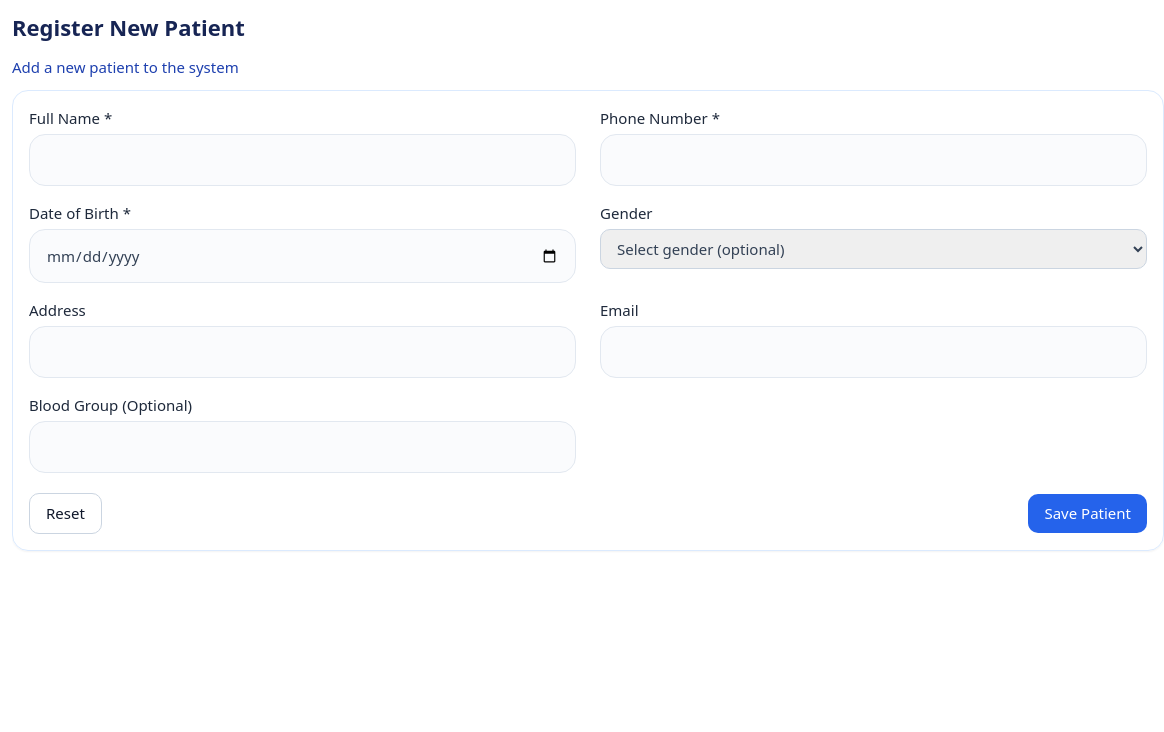
Scenario: registers with optional blood group
The width and height of the screenshot is (1164, 732).
Type "Example Patient" into the field labelled "Full Name*".
click(302, 160); type("Example Patient")  # box 29,134 -> 576,186
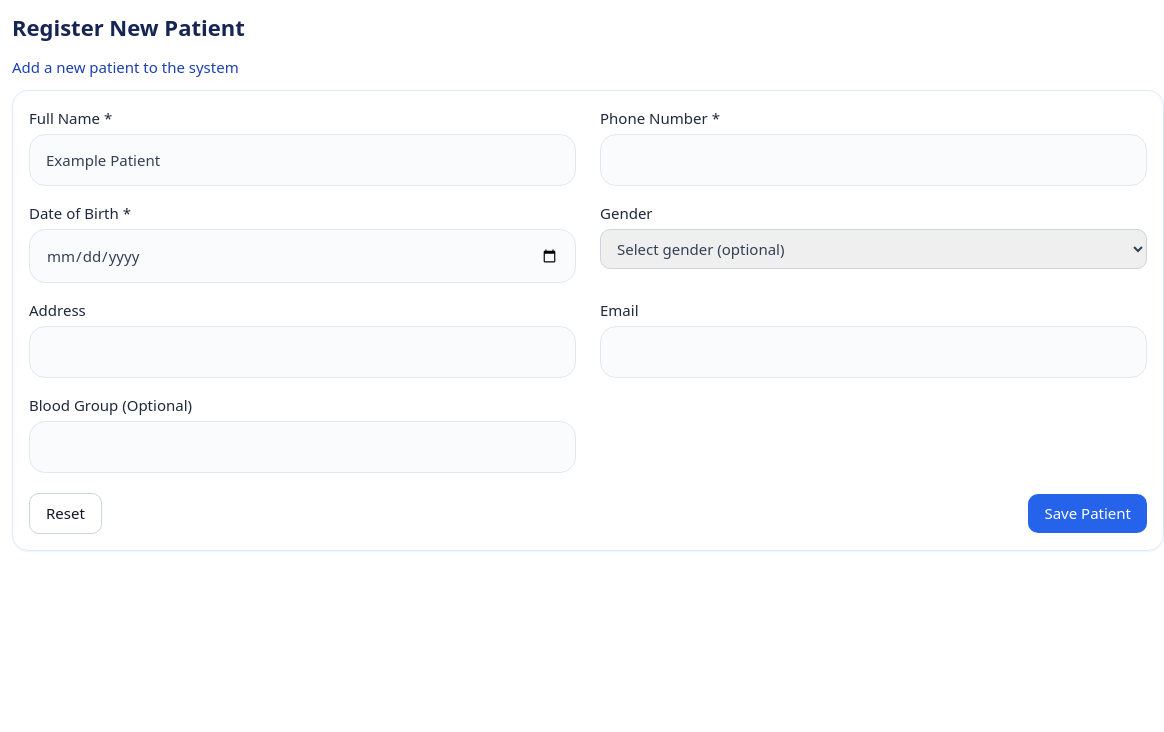
Type "raw-phone" into the field labelled "Phone Number*".
click(874, 160); type("raw-phone")  # box 600,134 -> 1147,186
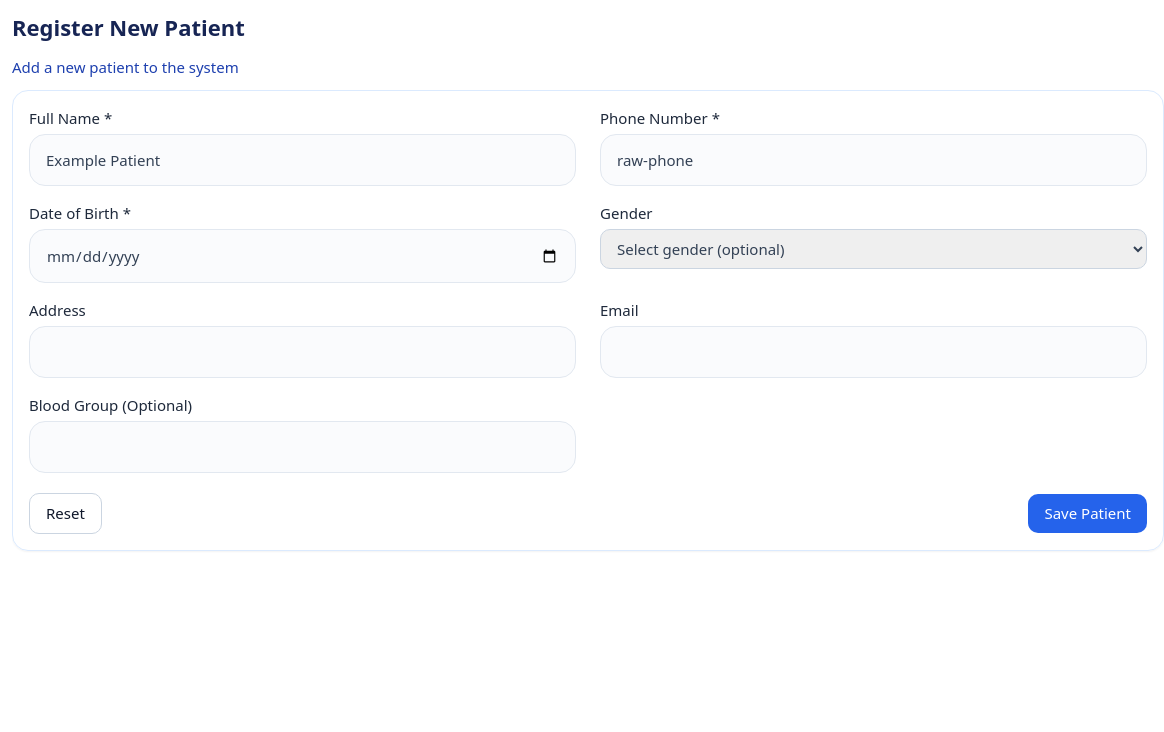
Type "1990-01-15" into the date field labelled "Date of Birth*".
click(302, 256); type("1990-01-15")  # box 29,229 -> 576,283
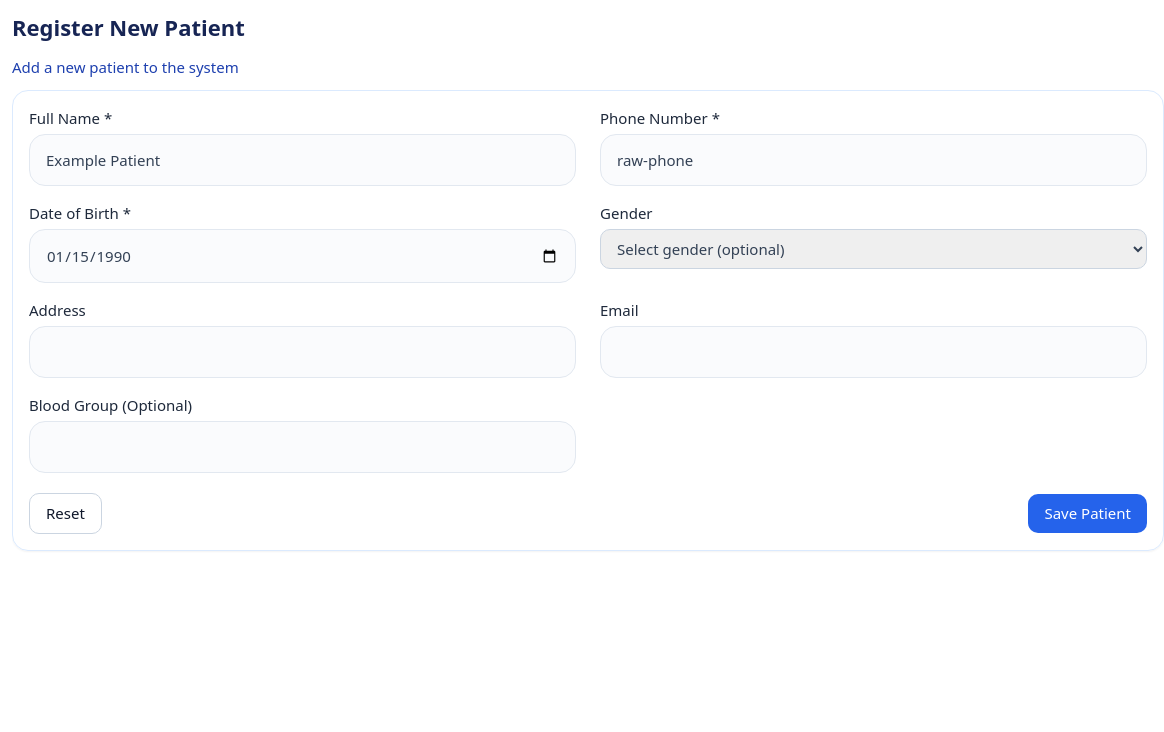
Click the button "Save Patient".
click(1088, 514)  # box 1028,494 -> 1147,533
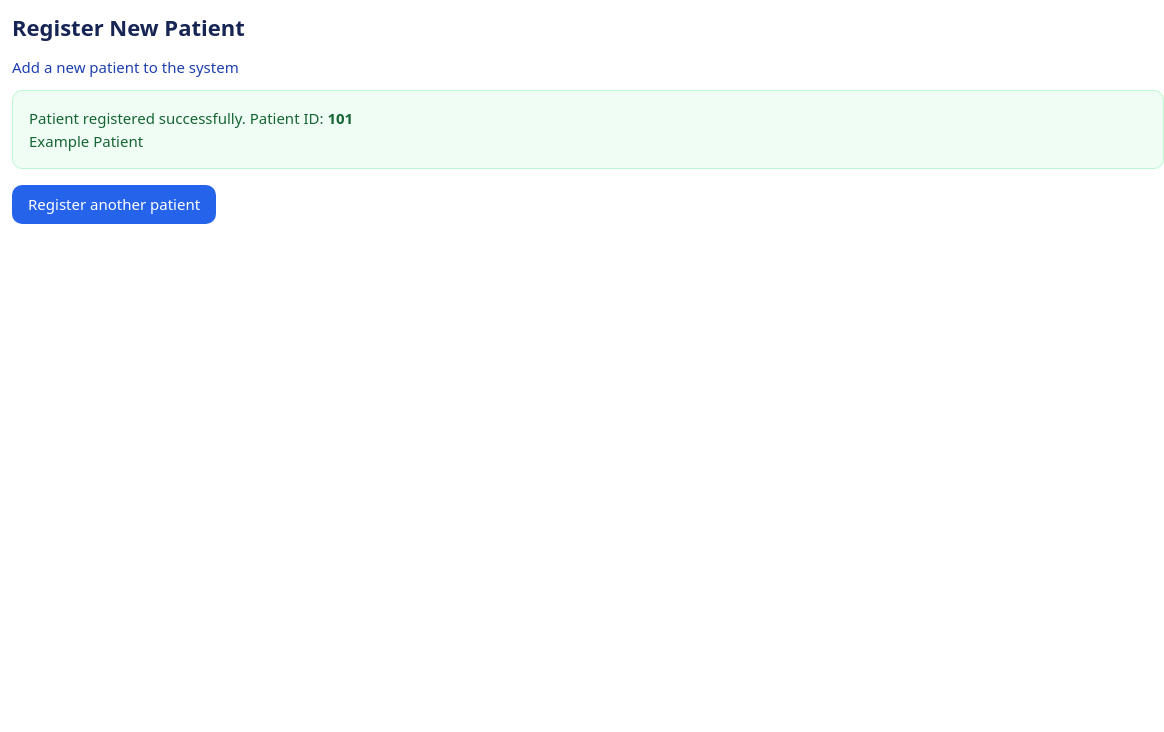
Now the message shows "Patient registered successfully", box 29,108 -> 324,128
